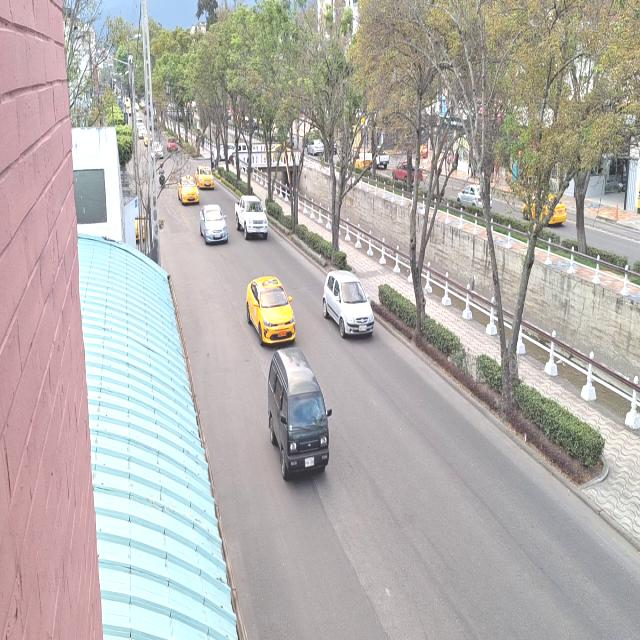CMT: (236, 194, 269, 238)
SED: (325, 272, 377, 341), (248, 276, 299, 346), (198, 201, 232, 249), (177, 175, 200, 207), (194, 164, 216, 189)
